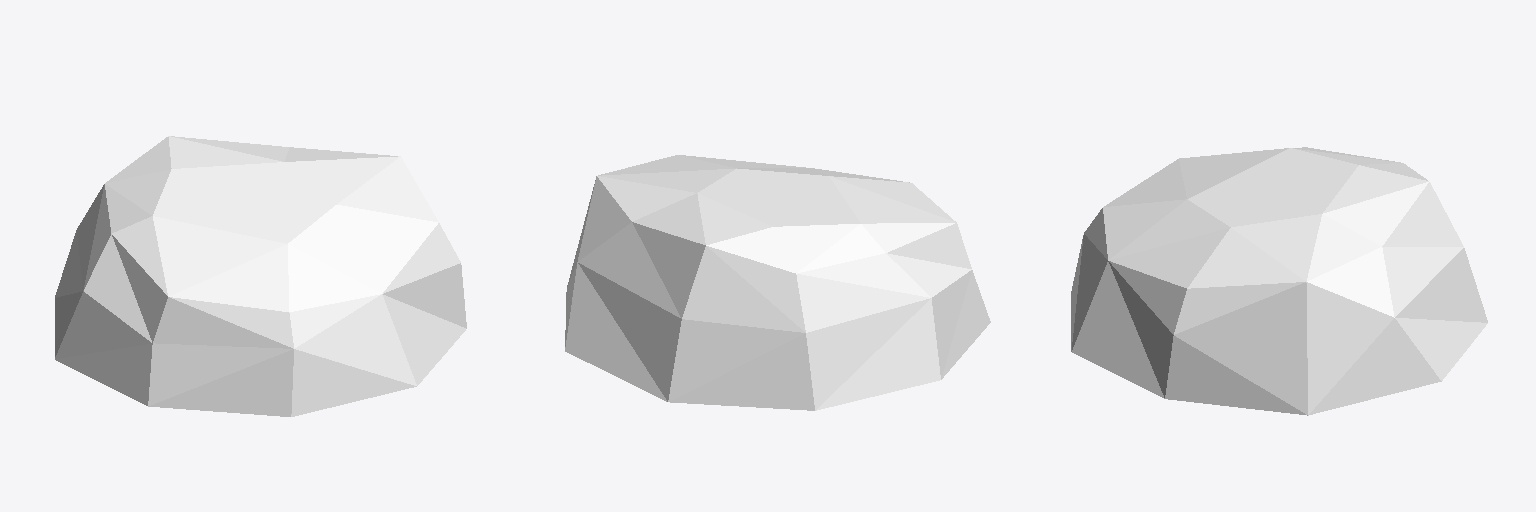
The model's file is rock.obj.
3 views of the same model, side by side, from view 1: azimuth 30°, elevation 25°; view 2: azimuth 150°, elevation 25°; view 3: azimuth 270°, elevation 25° (orthographic).
Visible parts, largest first — view 1: PlainStone_Plane; view 2: PlainStone_Plane; view 3: PlainStone_Plane.
Part boxes in pixels (bbox=[...]): PlainStone_Plane: bbox=[55, 136, 466, 416]; PlainStone_Plane: bbox=[565, 155, 990, 410]; PlainStone_Plane: bbox=[1071, 147, 1487, 415].
Size of the model in its own units: 2.99 by 1.05 by 2.88.